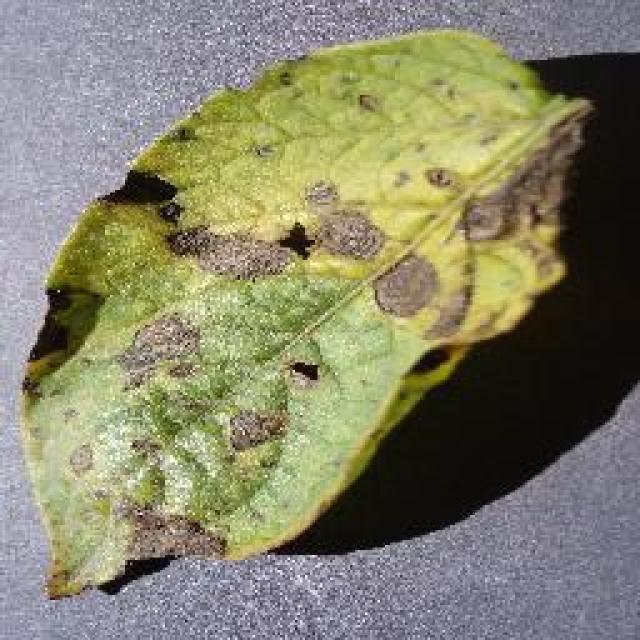Potato___Early_blight: (12, 25, 600, 596)
